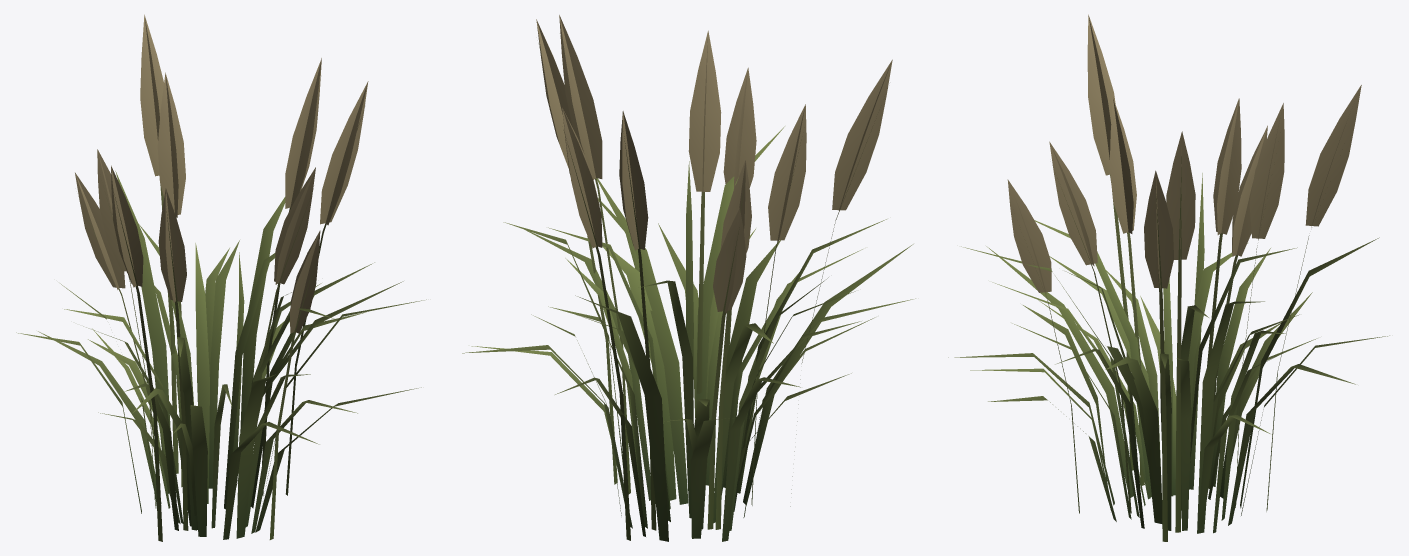
File: seeded.glb
3 renders of one model, left to right at view 1: azimuth 30°, elevation 25°; view 2: azimuth 150°, elevation 25°; view 3: azimuth 270°, elevation 25°, orthographic. The views are drawn at different scales.
Parts seen in each view (by area): view 1: seeded; view 2: seeded; view 3: seeded.
Boxes of the visible parts, x1,y1,x2,y2 form: seeded: (16,14,426,541); seeded: (462,15,915,541); seeded: (948,14,1389,541).
Bounding box in the file's own units: 0.5413 × 0.7085 × 0.6517.
